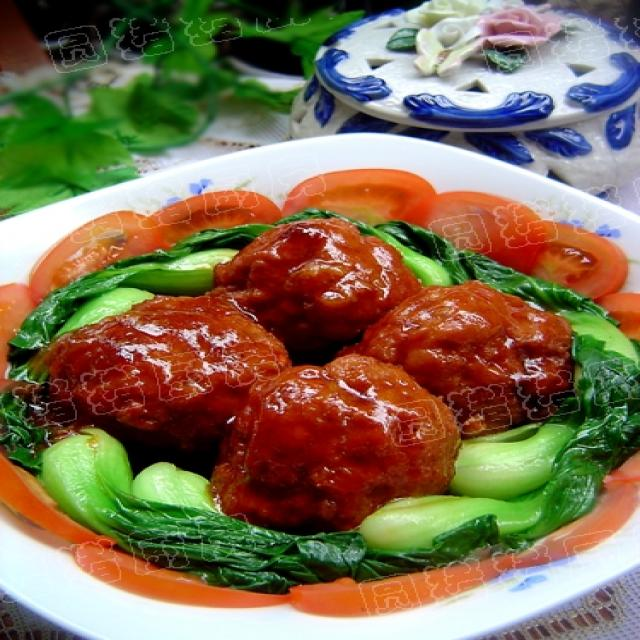Meatball: (201, 353, 473, 535), (29, 287, 297, 458), (345, 277, 582, 439), (203, 210, 427, 357)
